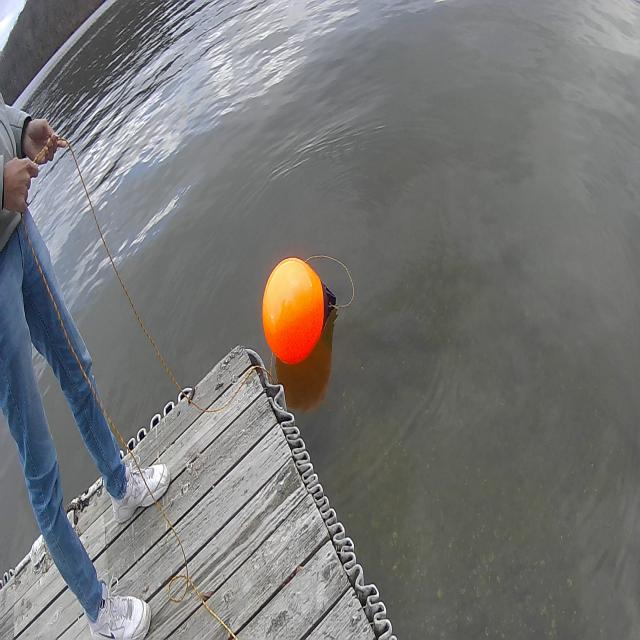Buoy: (258, 254, 326, 368)
